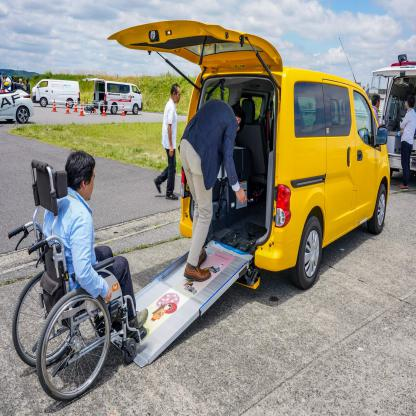wheelchair: (8, 150, 149, 406)
